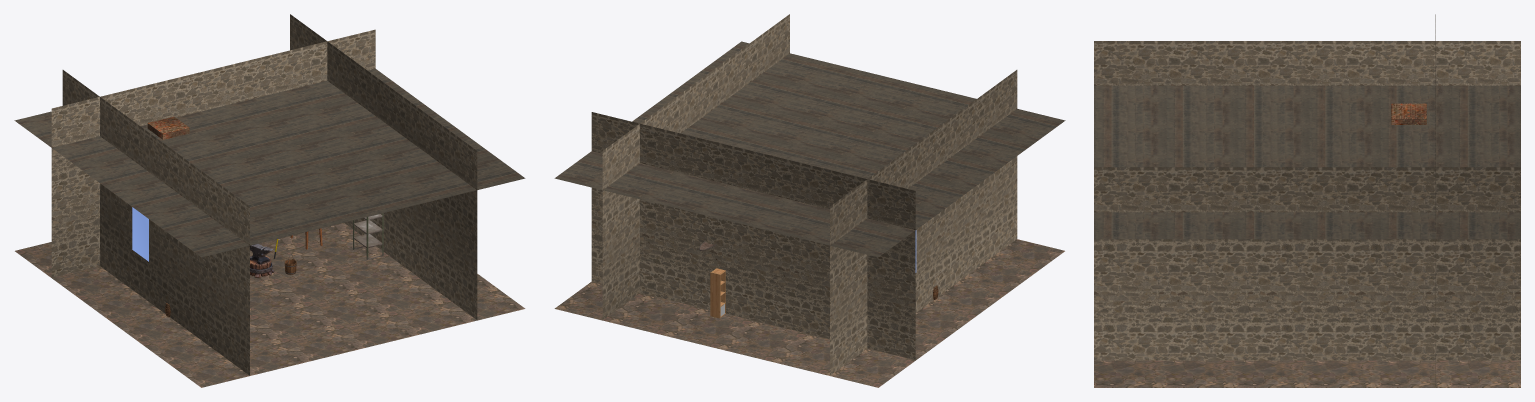
Rendered from forge.glb.
3 views of the same model, side by side, from view 1: azimuth 30°, elevation 25°; view 2: azimuth 150°, elevation 25°; view 3: azimuth 270°, elevation 25° (orthographic). The views are drawn at different scales.
Parts seen in each view (by area): view 1: shell, props; view 2: shell, props; view 3: shell.
Boxes of the visible parts, x1,y1,x2,y2 form: shell: [14, 14, 525, 387]; props: [165, 213, 383, 317]; shell: [554, 14, 1065, 387]; props: [699, 241, 938, 318]; shell: [1094, 14, 1520, 387].
Bounding box in the file's own units: 11.98 × 6.01 × 11.98.
33 materials, 29 textured.
